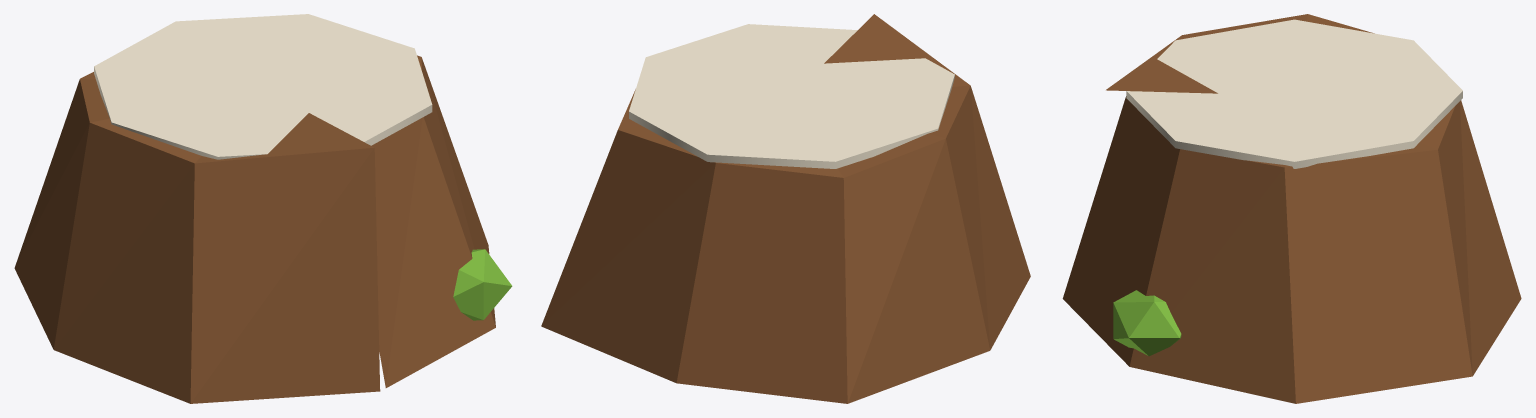
Rendered from tocon.glb.
The picture shows the model from 3 angles, left to right: view 1: azimuth 30°, elevation 25°; view 2: azimuth 150°, elevation 25°; view 3: azimuth 270°, elevation 25°; orthographic projection. The views are drawn at different scales.
Visible parts, largest first — view 1: tronco, corte, musgo; view 2: tronco, corte; view 3: tronco, corte, musgo.
Part boxes in pixels (left/top/right/bottom): tronco: left=14, top=55, right=495, bottom=403; corte: left=94, top=14, right=432, bottom=159; musgo: left=453, top=249, right=512, bottom=320; tronco: left=541, top=14, right=1030, bottom=403; corte: left=629, top=24, right=954, bottom=168; tronco: left=1062, top=14, right=1521, bottom=403; corte: left=1126, top=19, right=1462, bottom=168; musgo: left=1113, top=290, right=1181, bottom=356.
Size of the model in its own units: 1.2 by 0.5876 by 1.15.
